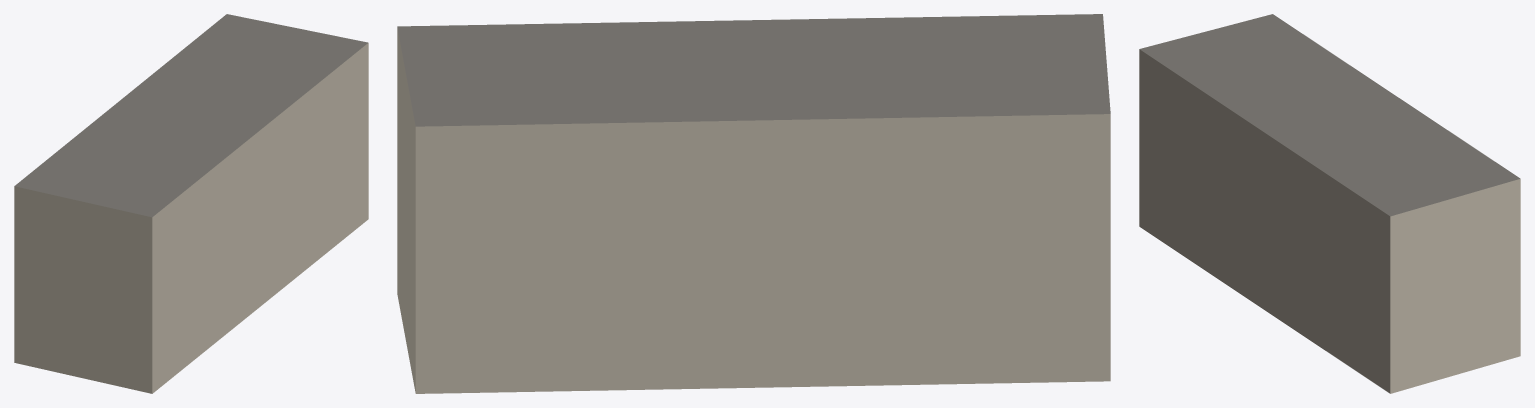
3 views of the same model, side by side, from view 1: azimuth 30°, elevation 25°; view 2: azimuth 150°, elevation 25°; view 3: azimuth 270°, elevation 25° (orthographic). The views are drawn at different scales.
Visible parts, largest first — view 1: HP-w505633368; view 2: HP-w505633368; view 3: HP-w505633368.
Part boxes in pixels (x1,y1,x2,y2): HP-w505633368: (14,14,368,393); HP-w505633368: (397,14,1110,393); HP-w505633368: (1139,14,1520,393).
Bounding box in the file's own units: 44.03 × 18 × 35.06.
